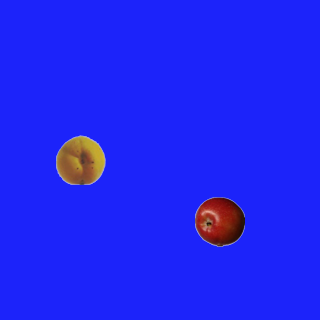Apple Braeburn: (194, 196, 244, 246)
Peach 2: (55, 134, 105, 184)
